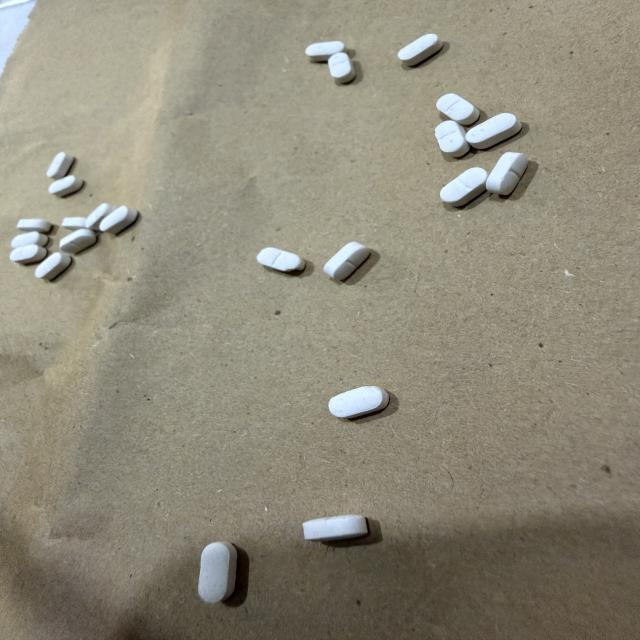pill: (199, 542, 237, 602), (466, 113, 521, 149), (329, 387, 389, 418), (486, 152, 528, 195), (440, 168, 487, 206), (323, 242, 370, 280), (303, 515, 368, 540), (398, 34, 443, 65), (436, 94, 479, 125), (435, 121, 470, 157), (257, 248, 305, 271), (100, 206, 138, 234), (35, 253, 71, 280), (60, 229, 97, 253), (305, 41, 344, 62), (86, 204, 116, 230), (329, 53, 355, 83), (49, 175, 83, 197), (47, 152, 74, 179), (10, 245, 47, 264), (12, 232, 48, 248), (17, 219, 51, 233), (62, 217, 86, 229)
